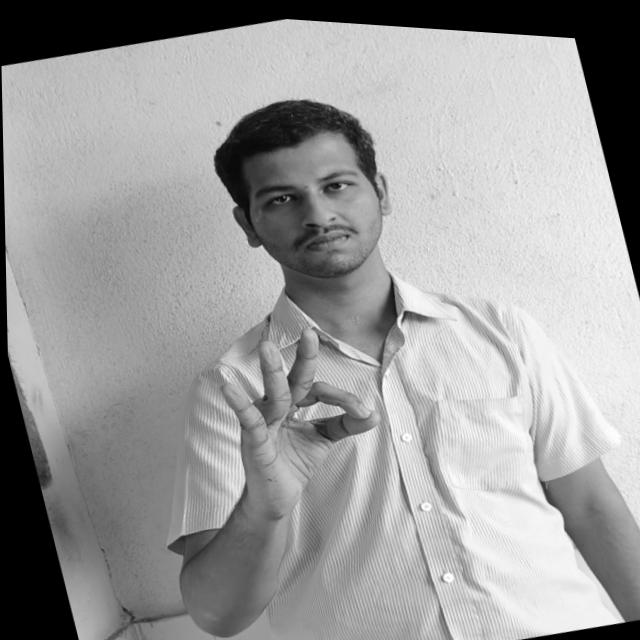Superb: (201, 306, 399, 521)
